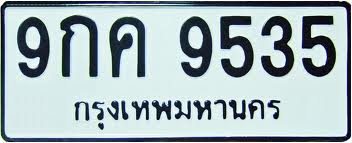Bangkok: (64, 89, 289, 133)
